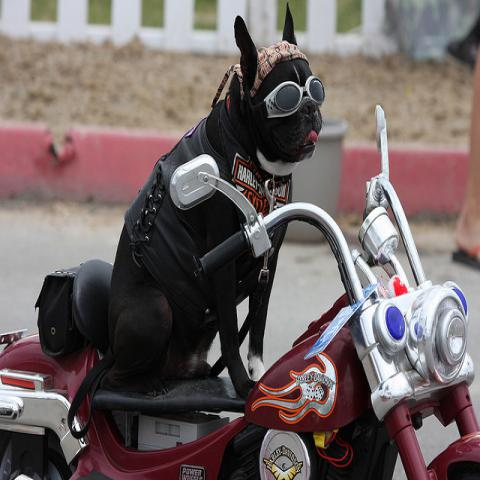motorcycle: (0, 107, 479, 473)
